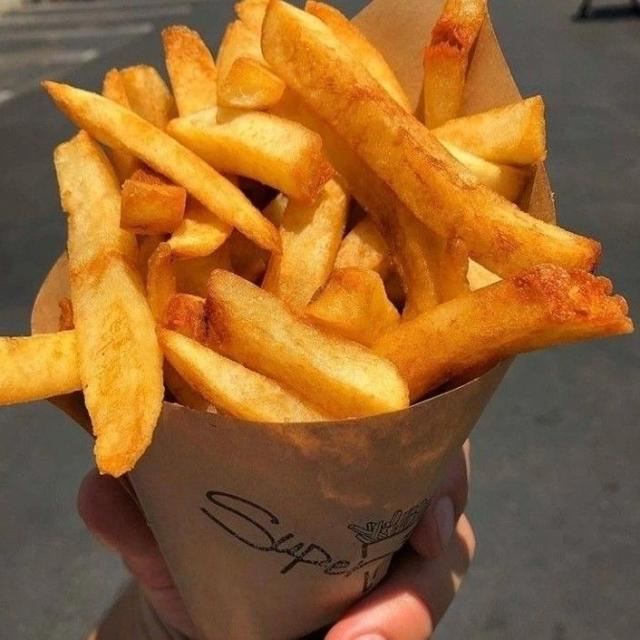potato fries: (0, 0, 632, 475), (262, 0, 600, 276), (44, 82, 279, 250), (55, 133, 164, 475), (278, 92, 443, 317), (375, 265, 631, 400), (206, 271, 407, 417), (159, 330, 327, 422), (167, 110, 332, 201), (305, 0, 412, 112), (262, 180, 349, 309), (424, 0, 486, 128), (433, 96, 545, 164), (306, 268, 399, 346), (0, 330, 81, 405), (218, 20, 284, 108), (439, 141, 529, 202), (163, 26, 217, 116), (121, 168, 186, 234), (168, 198, 232, 258), (120, 65, 176, 129), (335, 217, 391, 280), (218, 57, 284, 109), (173, 243, 231, 297), (164, 360, 216, 412), (146, 243, 177, 321), (161, 294, 207, 343), (437, 239, 469, 301), (230, 233, 270, 282), (235, 0, 269, 35), (103, 69, 130, 107), (467, 260, 500, 290), (59, 297, 74, 331)
